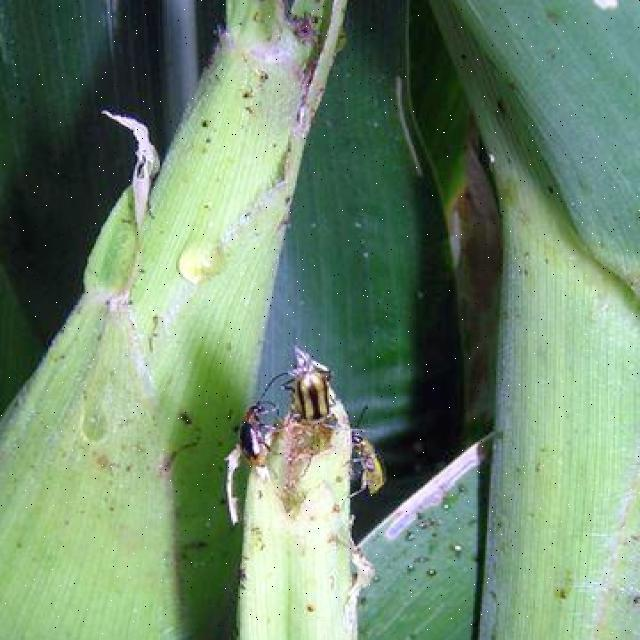trips: (235, 373, 287, 468), (342, 404, 382, 500), (286, 350, 334, 426)
